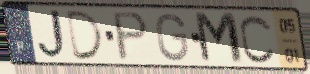C: (238, 13, 278, 66)
D: (65, 9, 107, 62)
G: (154, 11, 191, 63)
J: (36, 8, 71, 62)
M: (191, 10, 247, 67)
P: (111, 10, 151, 63)
